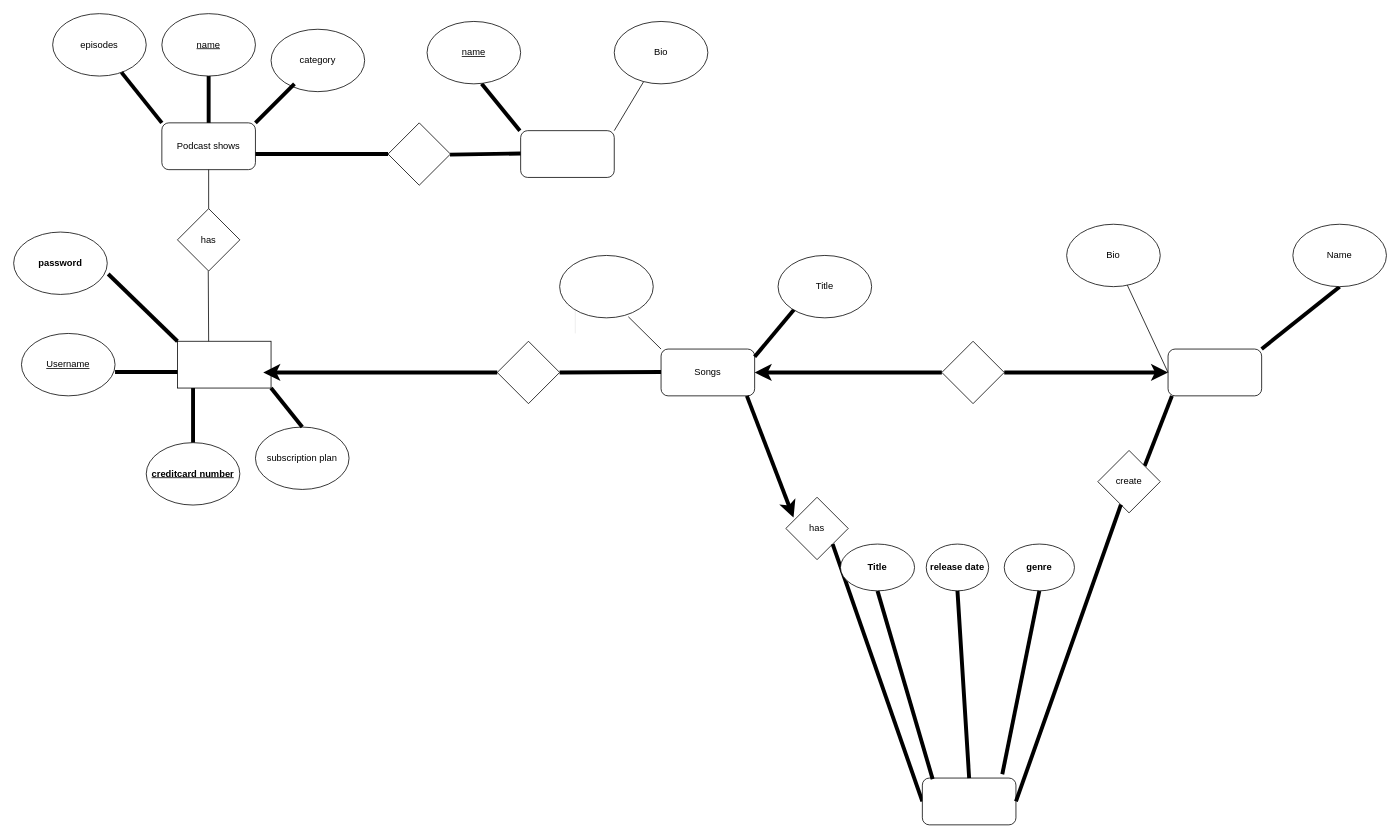
Image size: 1400x838. Some labels were removed from this diagram. The shapes that lost their labels are listed below. From the top down, each one's box as (x1, y1, x2, y2) in pixels, then its label:
(387, 122, 450, 185): written by
(520, 130, 614, 177): Podcaster
(559, 255, 653, 318): length
(177, 340, 271, 388): Customer Account
(496, 340, 560, 404): belongs to
(941, 340, 1004, 404): have
(1167, 348, 1262, 396): Artists
(922, 777, 1016, 825): Albums
